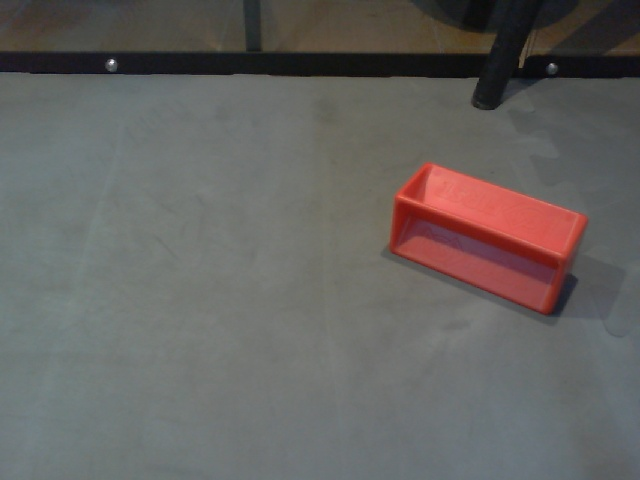RedSample: (388, 159, 590, 323)
